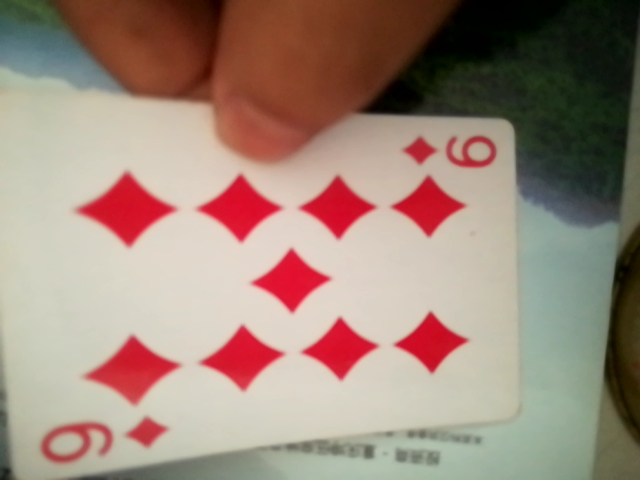fk 9: (4, 79, 534, 476)
